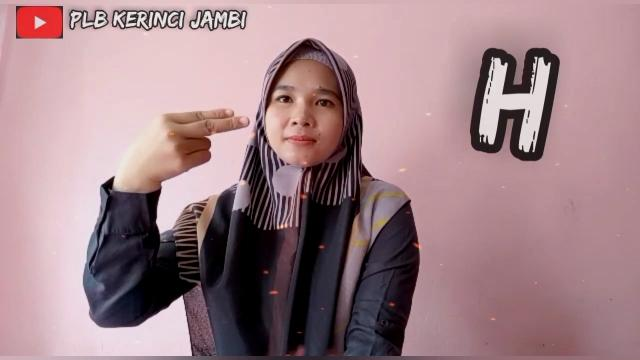H: (128, 107, 250, 169)
